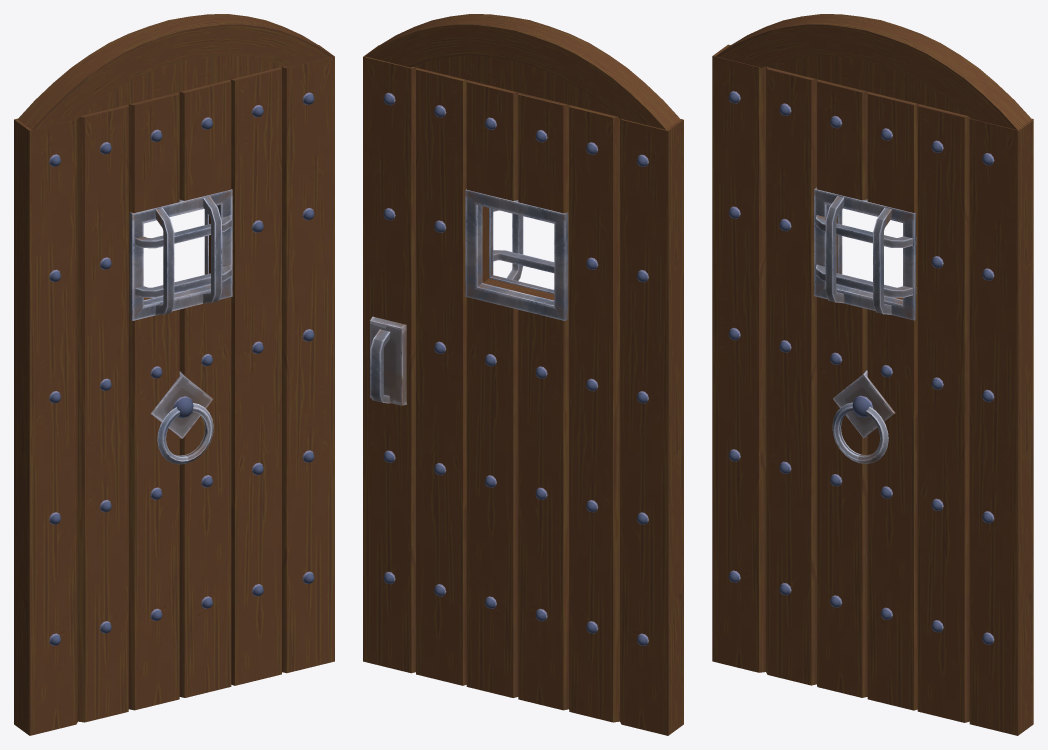
File: Door_2_Round.glb
3 renders of one model, left to right at view 1: azimuth 30°, elevation 25°; view 2: azimuth 150°, elevation 25°; view 3: azimuth 330°, elevation 25°, orthographic.
Parts seen in each view (by area): view 1: Door_2_Round; view 2: Door_2_Round; view 3: Door_2_Round.
Boxes of the visible parts, x1,y1,x2,y2 form: Door_2_Round: [14, 14, 334, 735]; Door_2_Round: [363, 14, 683, 735]; Door_2_Round: [712, 14, 1033, 735].
Bounding box in the file's own units: 1.12 × 2.33 × 0.2608.
Materials: 2 (2 with a texture image).
